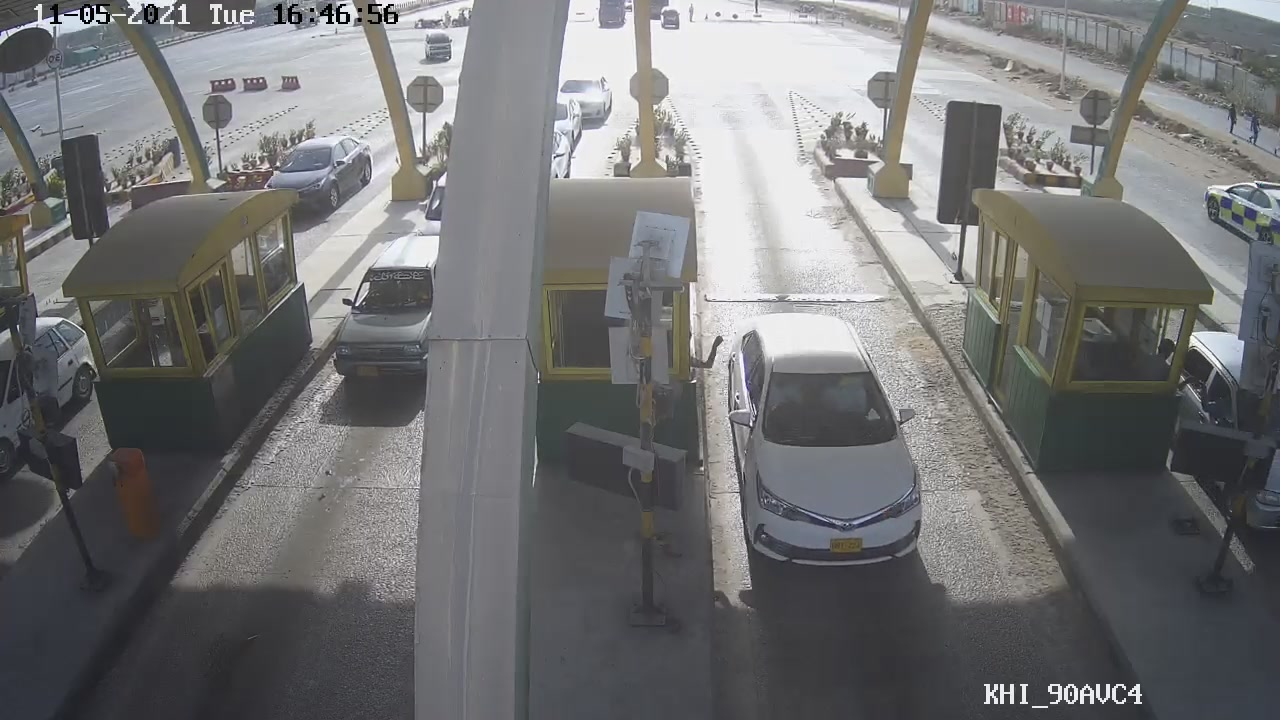F1: (721, 312, 937, 574)
